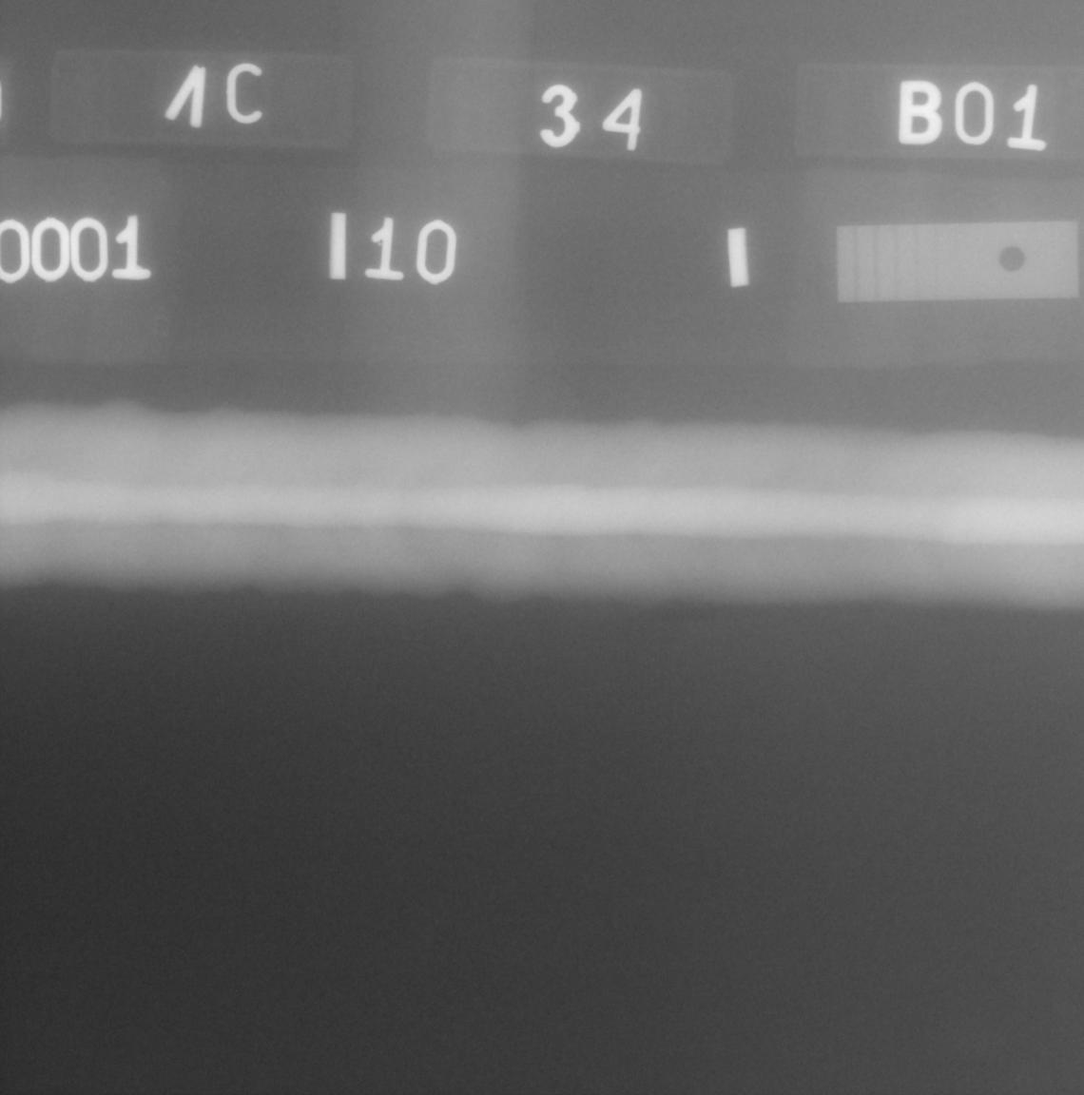Reference Standard 1: (836, 220, 1079, 302)
